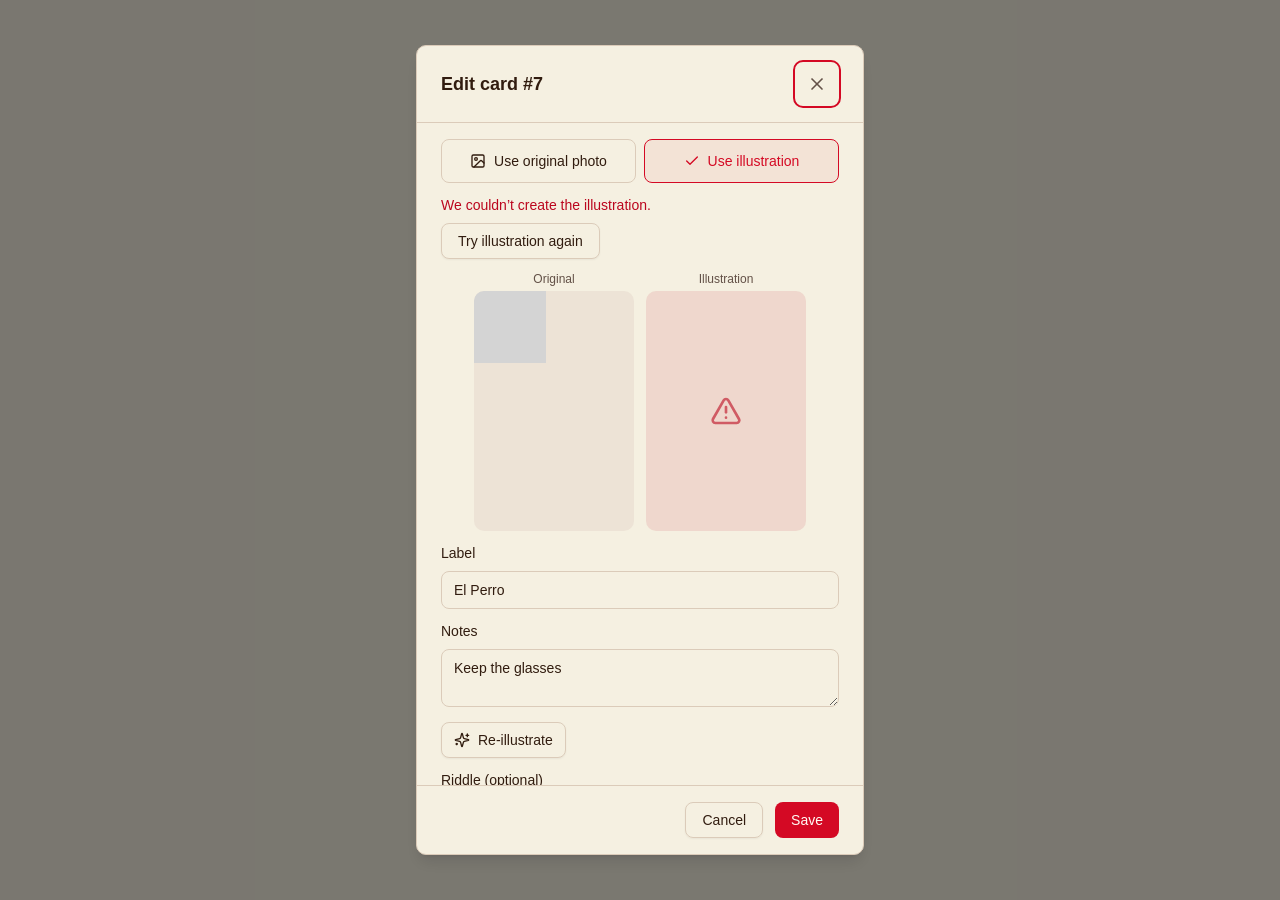
CardEditModal notes + re-illustrate › retry failure renders the error next to the retry button
Click the button "Try illustration again" at (520, 241), box [441,223,600,259]
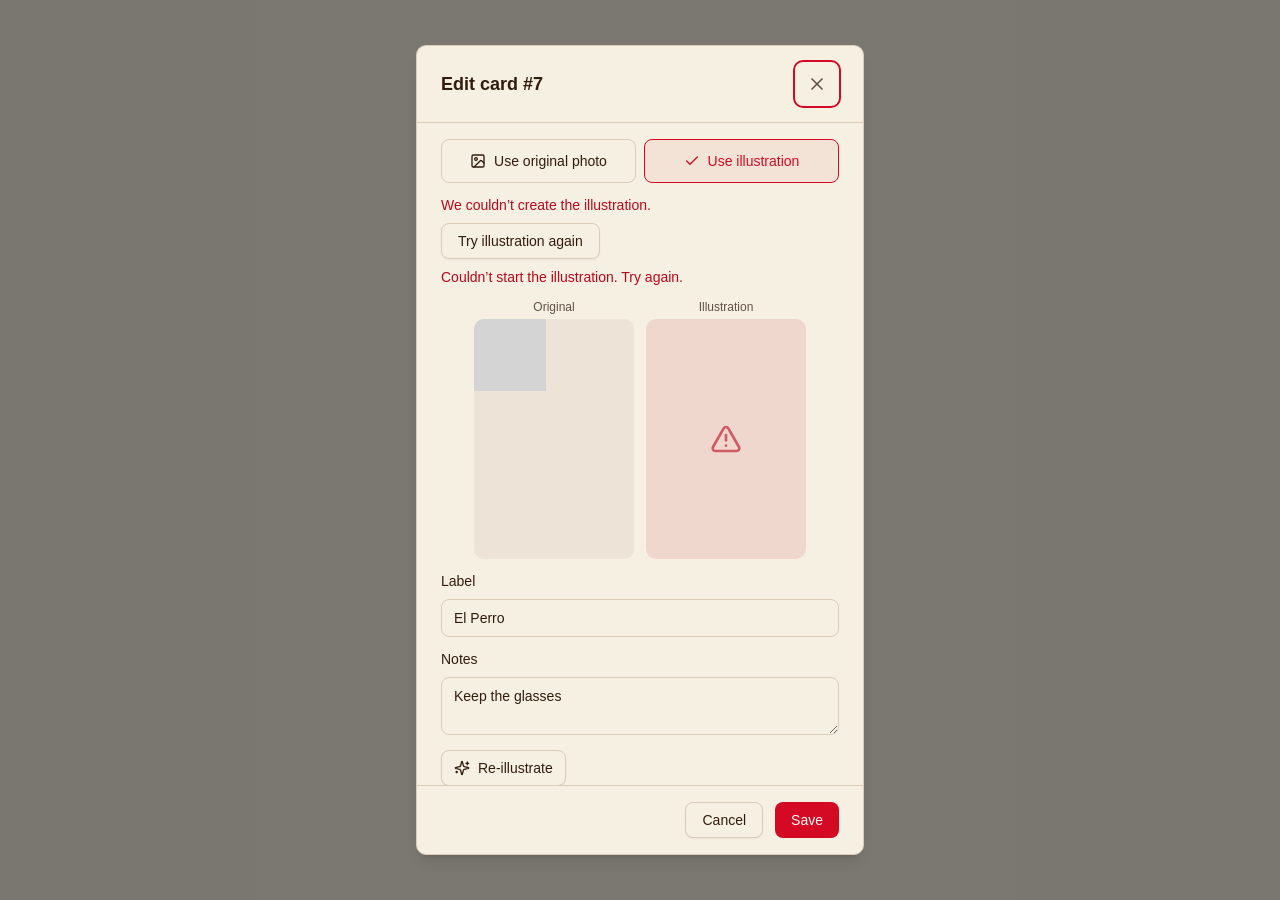
Expected: the text "Couldn’t start the illustration. Try again." is shown once, [441,269,683,285]
